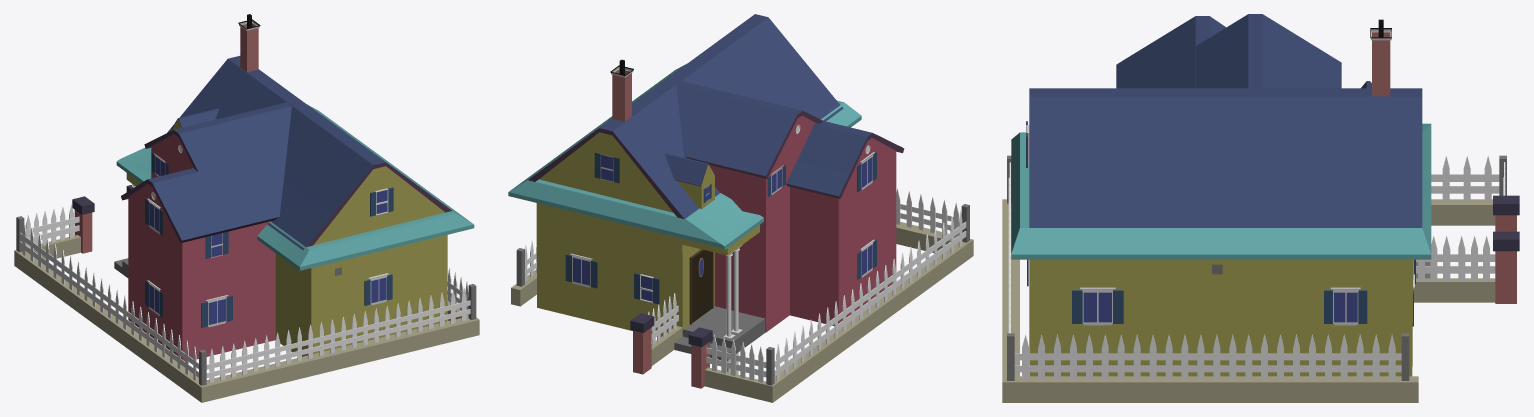
Rendered from house8_middle.fbx.
3 views of the same model, side by side, from view 1: azimuth 30°, elevation 25°; view 2: azimuth 150°, elevation 25°; view 3: azimuth 270°, elevation 25° (orthographic). The views are drawn at different scales.
Parts seen in each view (by area): view 1: house008; view 2: house008; view 3: house008.
Boxes of the visible parts, x1,y1,x2,y2 form: house008: (14,14,479,402); house008: (508,14,973,402); house008: (1002,14,1519,402).
Bounding box in the file's own units: 10.39 × 9.58 × 12.4.
